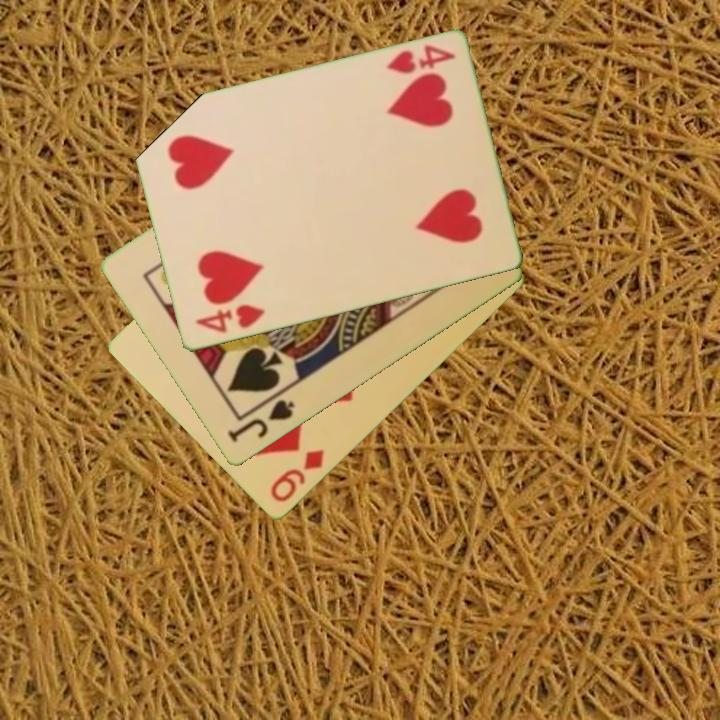4h: (191, 301, 268, 337), (382, 42, 459, 78)
9d: (266, 446, 328, 506)
Js: (223, 396, 298, 446)
